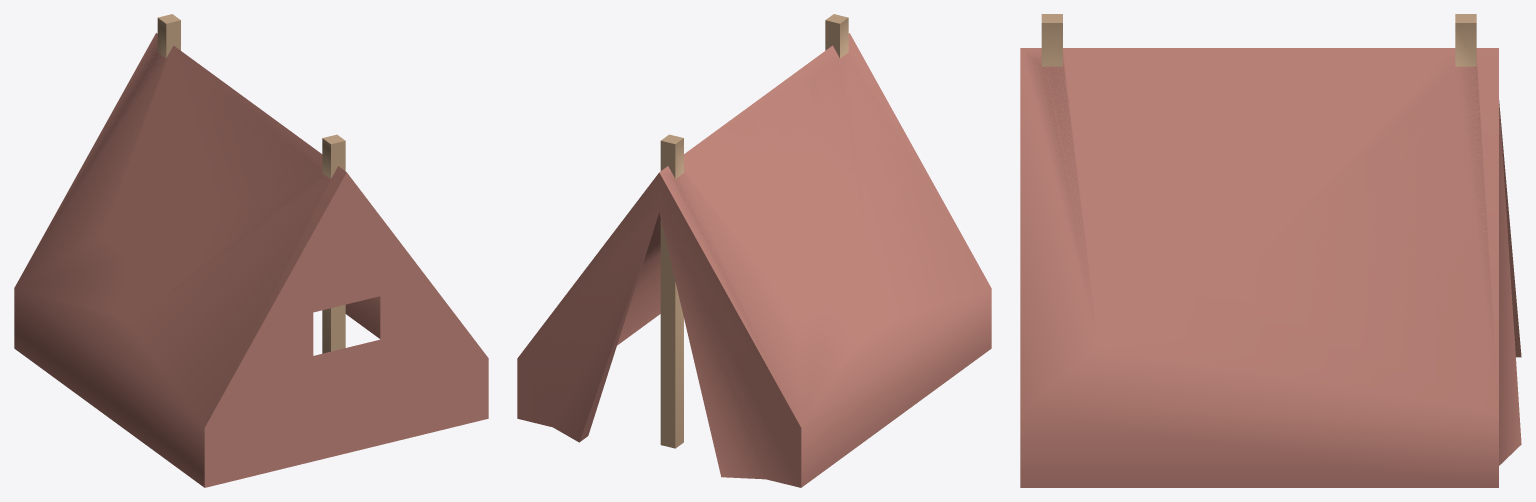
3 views of the same model, side by side, from view 1: azimuth 30°, elevation 25°; view 2: azimuth 150°, elevation 25°; view 3: azimuth 270°, elevation 25° (orthographic). The views are drawn at different scales.
Visible parts, largest first — view 1: model; view 2: model; view 3: model.
Part boxes in pixels (x1,y1,x2,y2): model: [14, 14, 488, 487]; model: [517, 14, 991, 487]; model: [1020, 14, 1521, 487].
Size of the model in its own units: 1.64 by 1.68 by 2.
